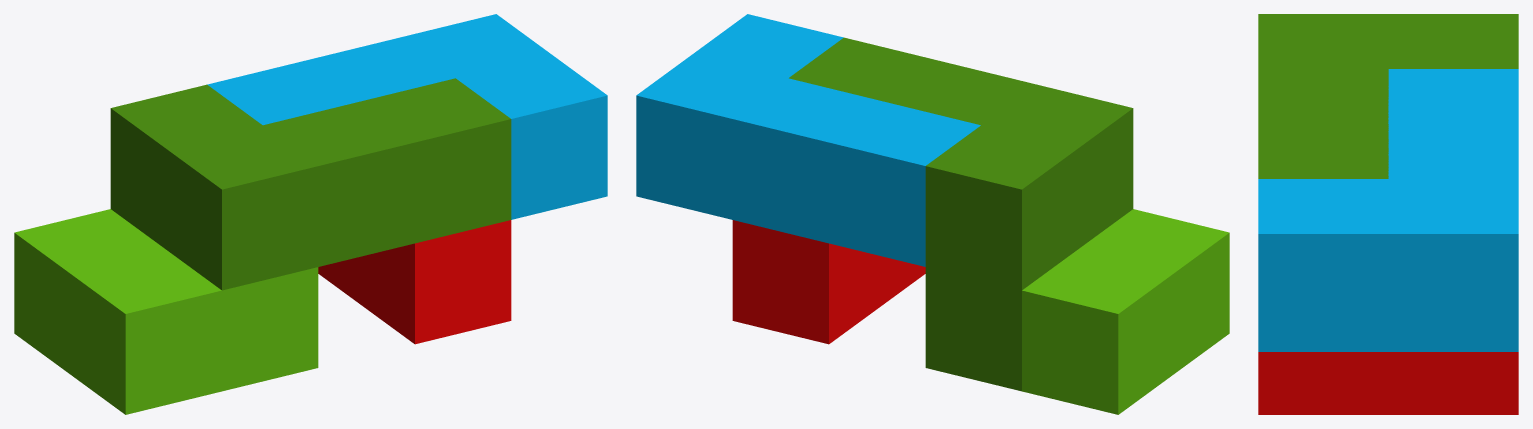
3 views of the same model, side by side, from view 1: azimuth 30°, elevation 25°; view 2: azimuth 150°, elevation 25°; view 3: azimuth 270°, elevation 25° (orthographic). The views are drawn at different scales.
Parts seen in each view (by area): view 1: mergedBlocks(Clone); view 2: mergedBlocks(Clone); view 3: mergedBlocks(Clone).
Part boxes in pixels (left/top/right/bottom): mergedBlocks(Clone): left=14, top=14, right=607, bottom=414; mergedBlocks(Clone): left=636, top=14, right=1229, bottom=414; mergedBlocks(Clone): left=1258, top=14, right=1518, bottom=414.
Size of the model in its own units: 5 by 2 by 2.
4 materials, 4 textured.
